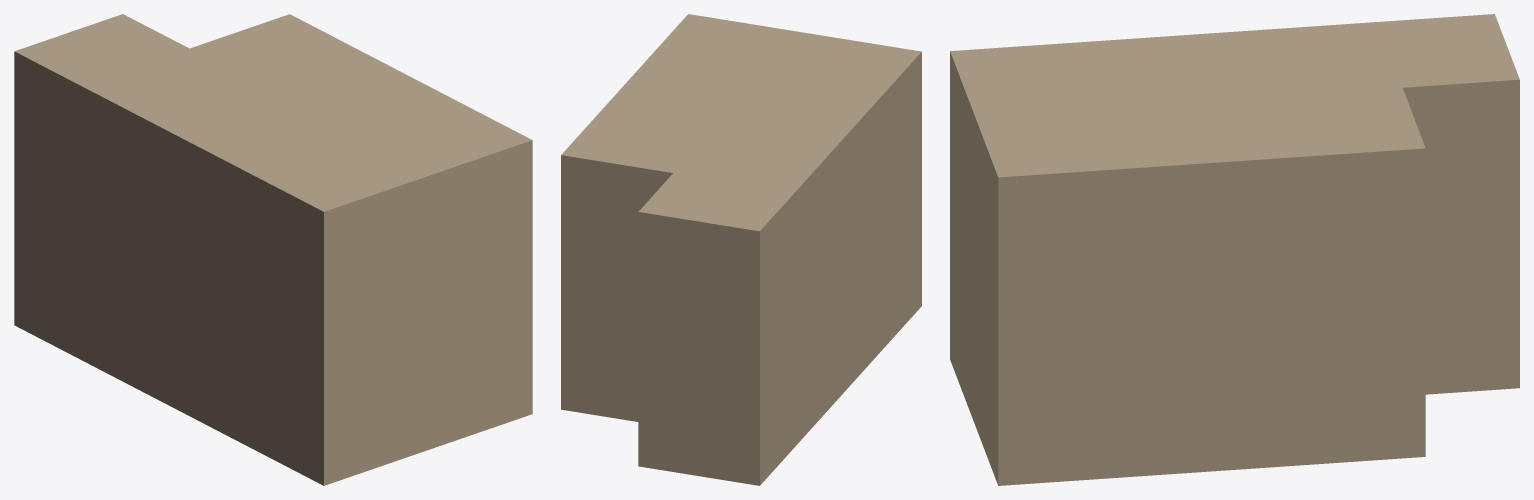
The model's file is bld_107639374.dae.
The picture shows the model from 3 angles, left to right: view 1: azimuth 30°, elevation 25°; view 2: azimuth 150°, elevation 25°; view 3: azimuth 270°, elevation 25°; orthographic projection. The views are drawn at different scales.
Parts seen in each view (by area): view 1: bld_107639374; view 2: bld_107639374; view 3: bld_107639374.
Part boxes in pixels (x1,y1,x2,y2): bld_107639374: (14, 14, 532, 485); bld_107639374: (561, 14, 921, 485); bld_107639374: (950, 14, 1519, 485).
Bounding box in the file's own units: 9.09 × 13.39 × 8.
